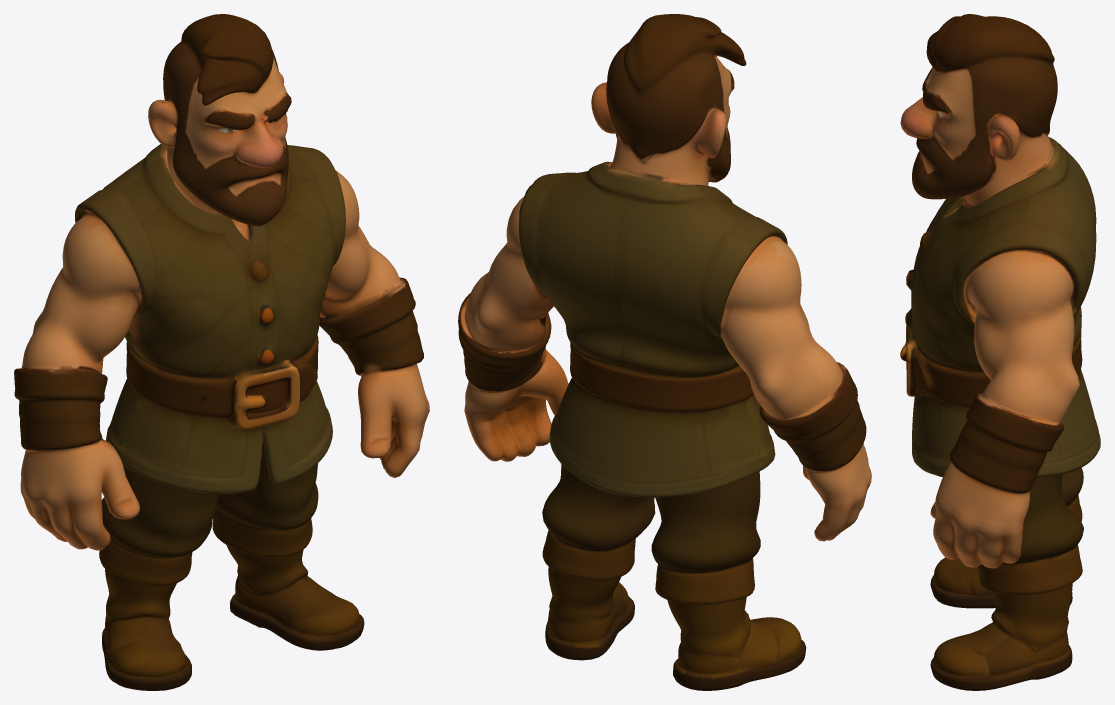
Rendered from linorex_LOD0.fbx.
The picture shows the model from 3 angles, left to right: view 1: azimuth 30°, elevation 25°; view 2: azimuth 150°, elevation 25°; view 3: azimuth 270°, elevation 25°; orthographic projection. The views are drawn at different scales.
Parts seen in each view (by area): view 1: linorex; view 2: linorex; view 3: linorex.
Boxes of the visible parts, x1,y1,x2,y2 form: linorex: (14,14,429,690); linorex: (458,14,871,690); linorex: (900,14,1100,690).
Bounding box in the file's own units: 0.7358 × 1.12 × 0.3309.
1 material, 1 textured.
